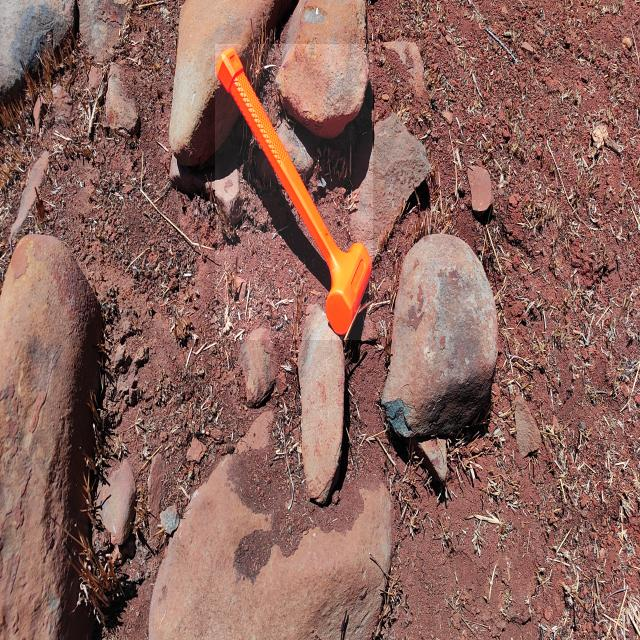Orange_hammer: (215, 44, 374, 340)
